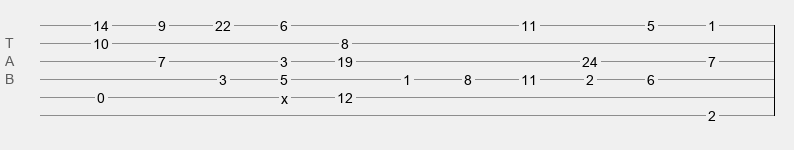0: (97, 90, 105, 100)
1: (403, 72, 411, 82), (708, 18, 716, 28)
10: (93, 36, 109, 46)
11: (521, 18, 537, 28), (521, 72, 537, 82)
12: (337, 90, 353, 100)
14: (93, 18, 109, 28)
19: (337, 54, 353, 64)
2: (586, 72, 594, 82), (708, 108, 716, 118)
22: (215, 18, 231, 28)
24: (582, 54, 598, 64)
3: (219, 72, 227, 82), (280, 54, 288, 64)
5: (280, 72, 288, 82), (647, 18, 655, 28)
6: (280, 18, 288, 28), (647, 72, 655, 82)
7: (158, 54, 166, 64), (708, 54, 716, 64)
8: (341, 36, 349, 46), (464, 72, 472, 82)
9: (158, 18, 166, 28)
x: (281, 91, 288, 99)
